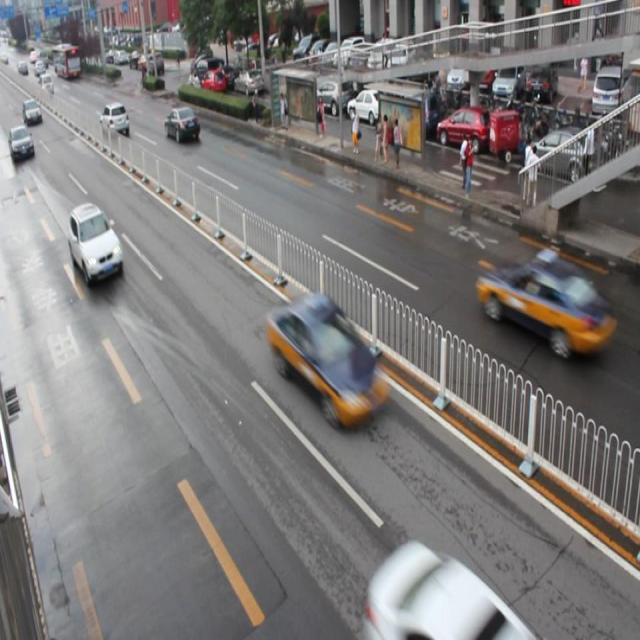car: (366, 537, 534, 640), (268, 290, 390, 430), (476, 249, 606, 360), (68, 201, 124, 284), (164, 104, 201, 146), (100, 101, 130, 138)
